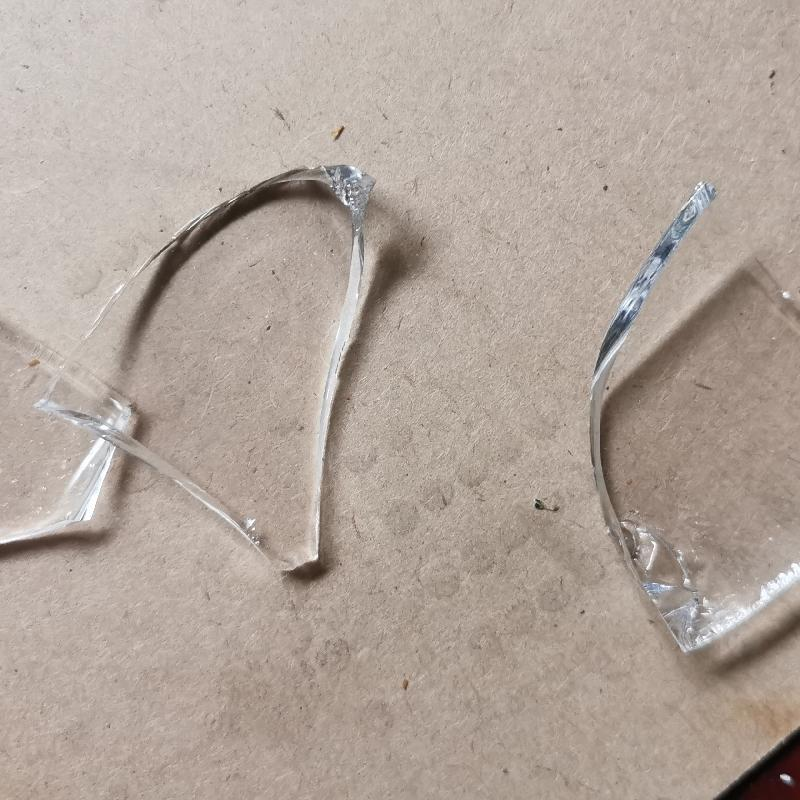glass: (32, 161, 386, 588), (588, 181, 799, 651)
